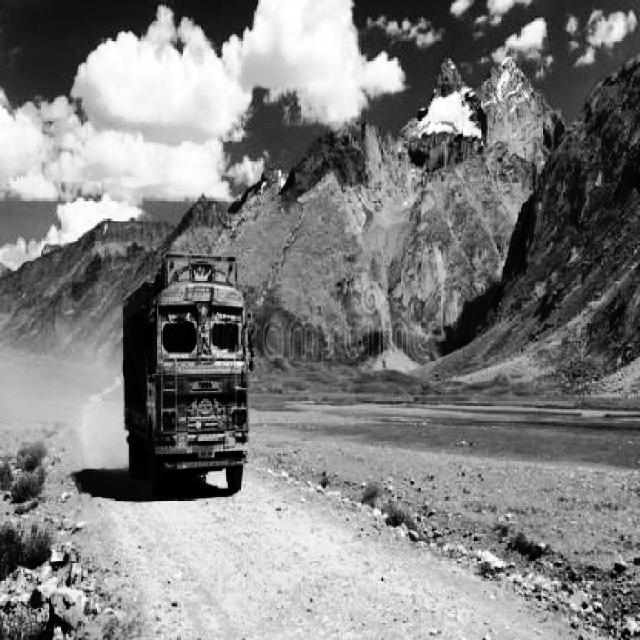HCV: (120, 304, 248, 480)
